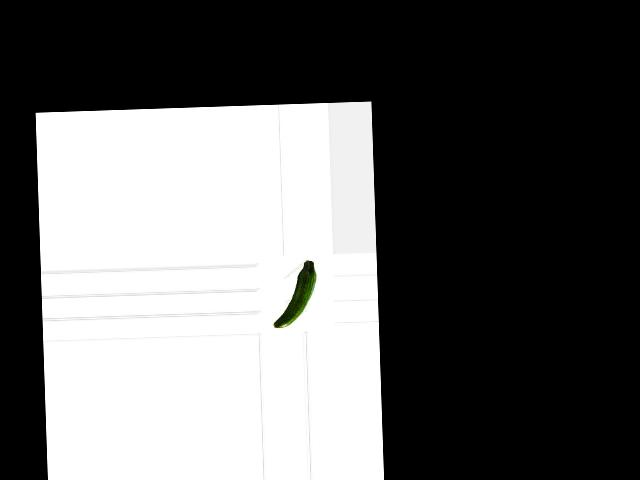cucumber: (270, 259, 317, 328)
